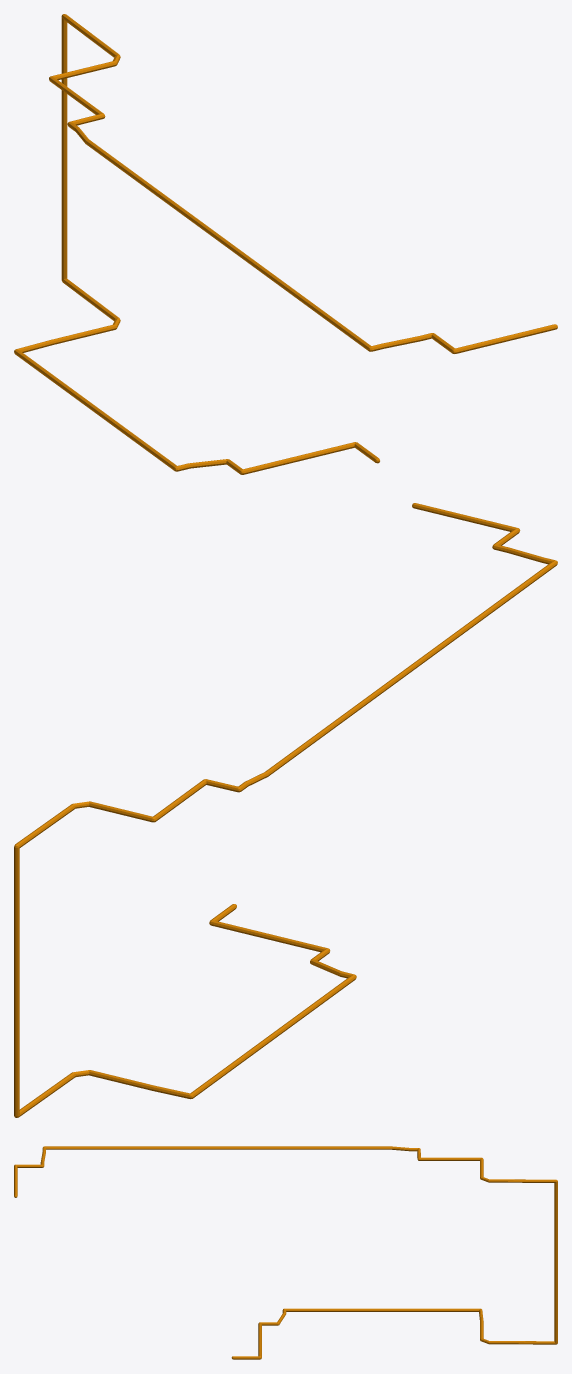
The picture shows the model from 3 angles, top to bottom: view 1: azimuth 30°, elevation 25°; view 2: azimuth 150°, elevation 25°; view 3: azimuth 270°, elevation 25°; orthographic projection. The views are drawn at different scales.
Bounding box in the file's own units: 660 × 1020 × 3051.
